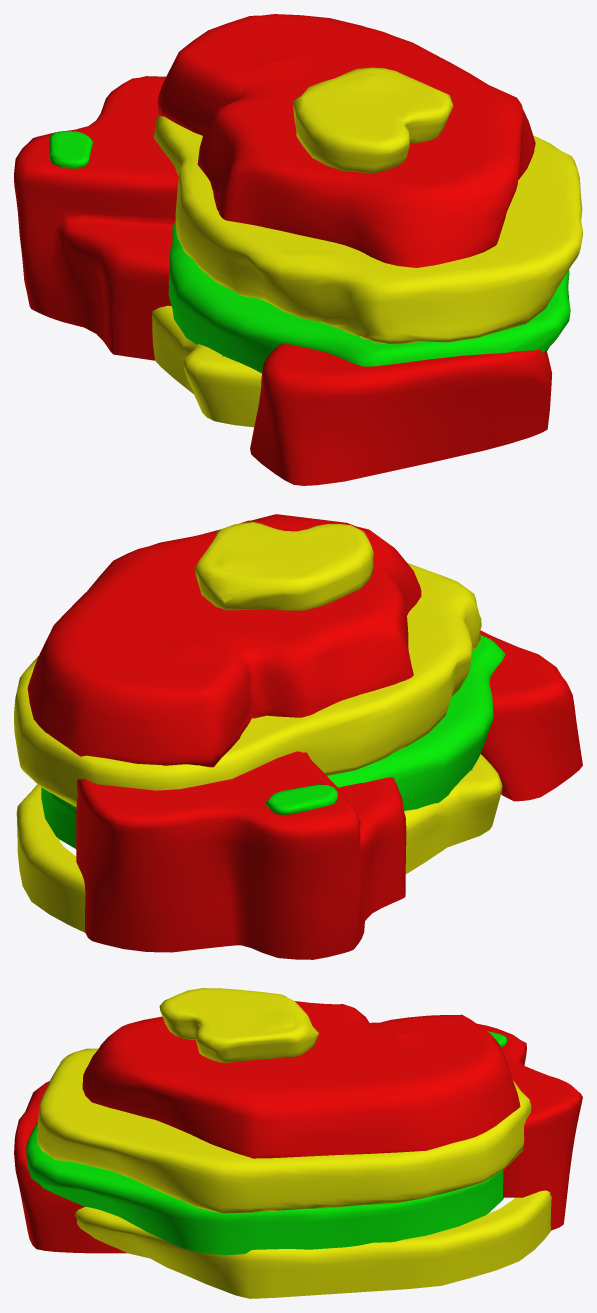
The model's file is rock1.fbx.
3 views of the same model, one above another, from view 1: azimuth 30°, elevation 25°; view 2: azimuth 150°, elevation 25°; view 3: azimuth 270°, elevation 25° (orthographic). The views are drawn at different scales.
Parts seen in each view (by area): view 1: rocher1:polySurface1; view 2: rocher1:polySurface1; view 3: rocher1:polySurface1.
Boxes of the visible parts, box(x1,y1,x2,y2) form: rocher1:polySurface1: box(14, 14, 582, 485); rocher1:polySurface1: box(14, 514, 582, 959); rocher1:polySurface1: box(14, 988, 582, 1298).
Size of the model in its own units: 2128 by 1267 by 3016.
